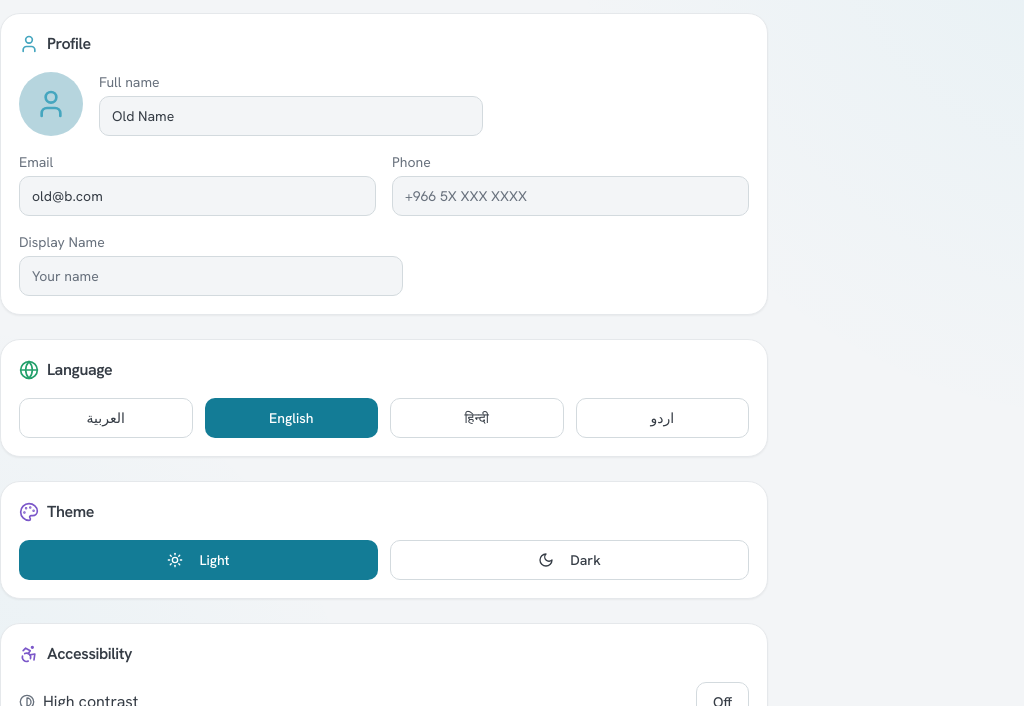
Test case: UserProfile — account editing (#203) › surfaces the server error when the email is already in use
This screenshot has width=1024, height=706.
Step 1. Replace the text in the field labelled "Email" with "taken@b.com" → [198, 196], box [19, 176, 376, 216]
(page scrolled)
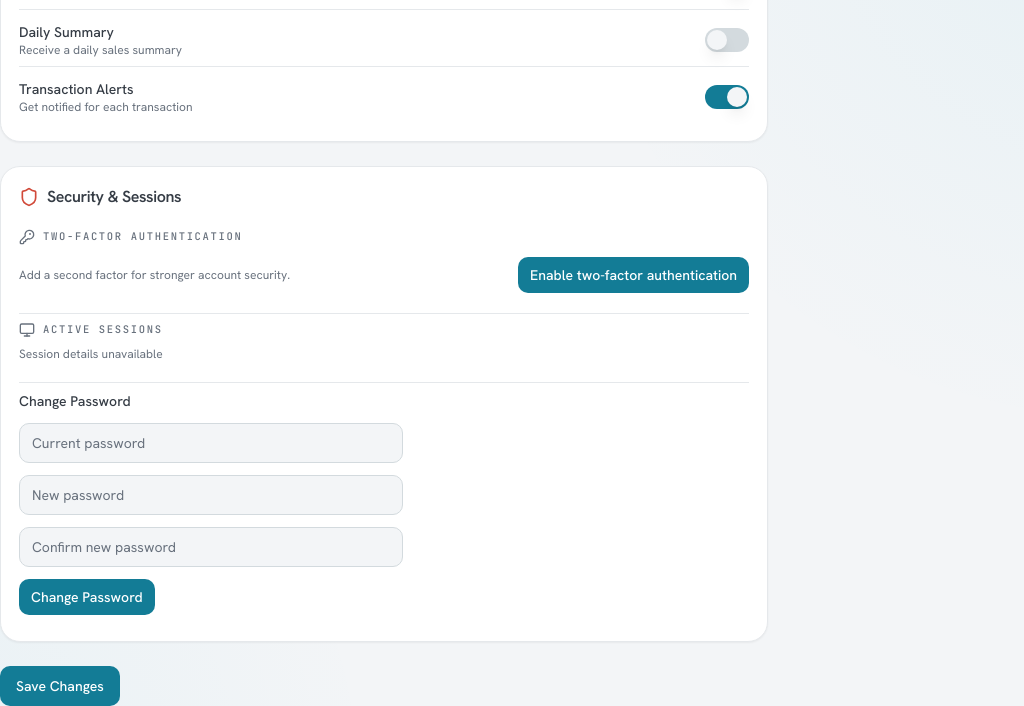
Step 2. Click the button "Save Changes" → [60, 686], box [0, 666, 120, 705]
(page scrolled)
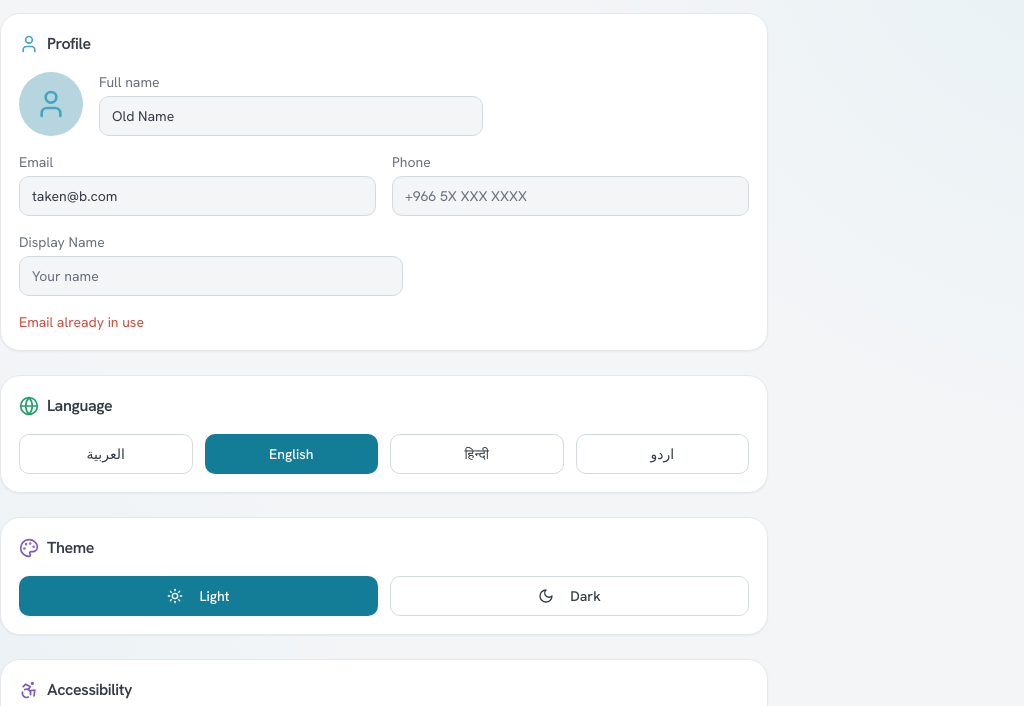
Now the text "Email already in use" is shown, box [19, 313, 144, 331]
